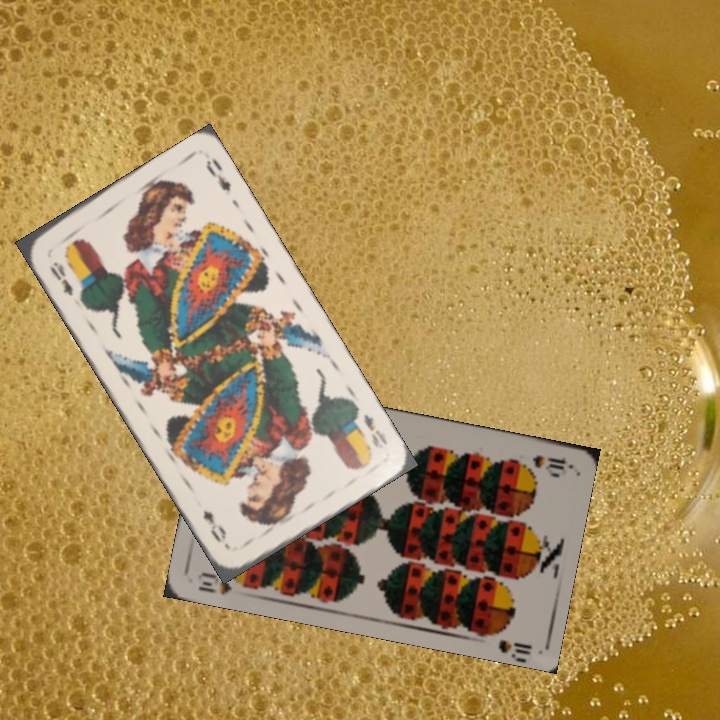EO: (359, 409, 391, 451), (46, 257, 76, 299)
S10: (193, 568, 251, 597), (528, 451, 569, 476)
